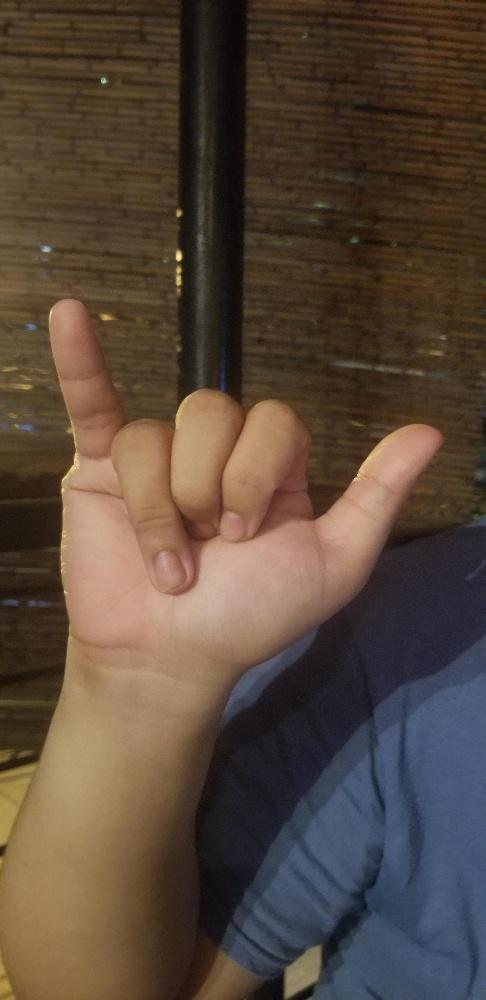y: (44, 296, 444, 643)
